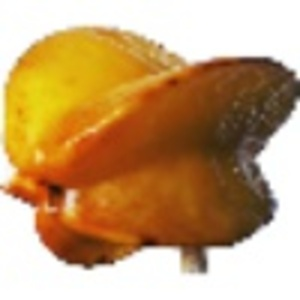carambola: (1, 24, 300, 276)
